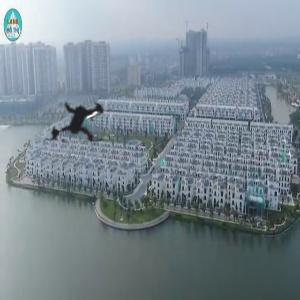drone: (22, 68, 138, 184)
